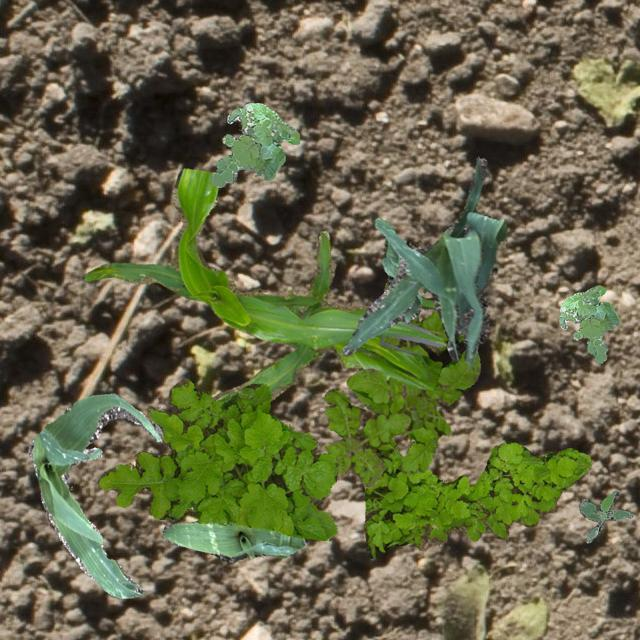crop: (83, 168, 444, 402), (340, 156, 506, 364), (27, 392, 162, 598), (160, 520, 306, 562), (380, 238, 420, 322)
weed: (98, 378, 338, 540), (364, 438, 590, 556), (352, 276, 480, 416), (322, 368, 450, 487), (208, 102, 298, 186), (558, 284, 620, 362), (578, 491, 632, 542)
